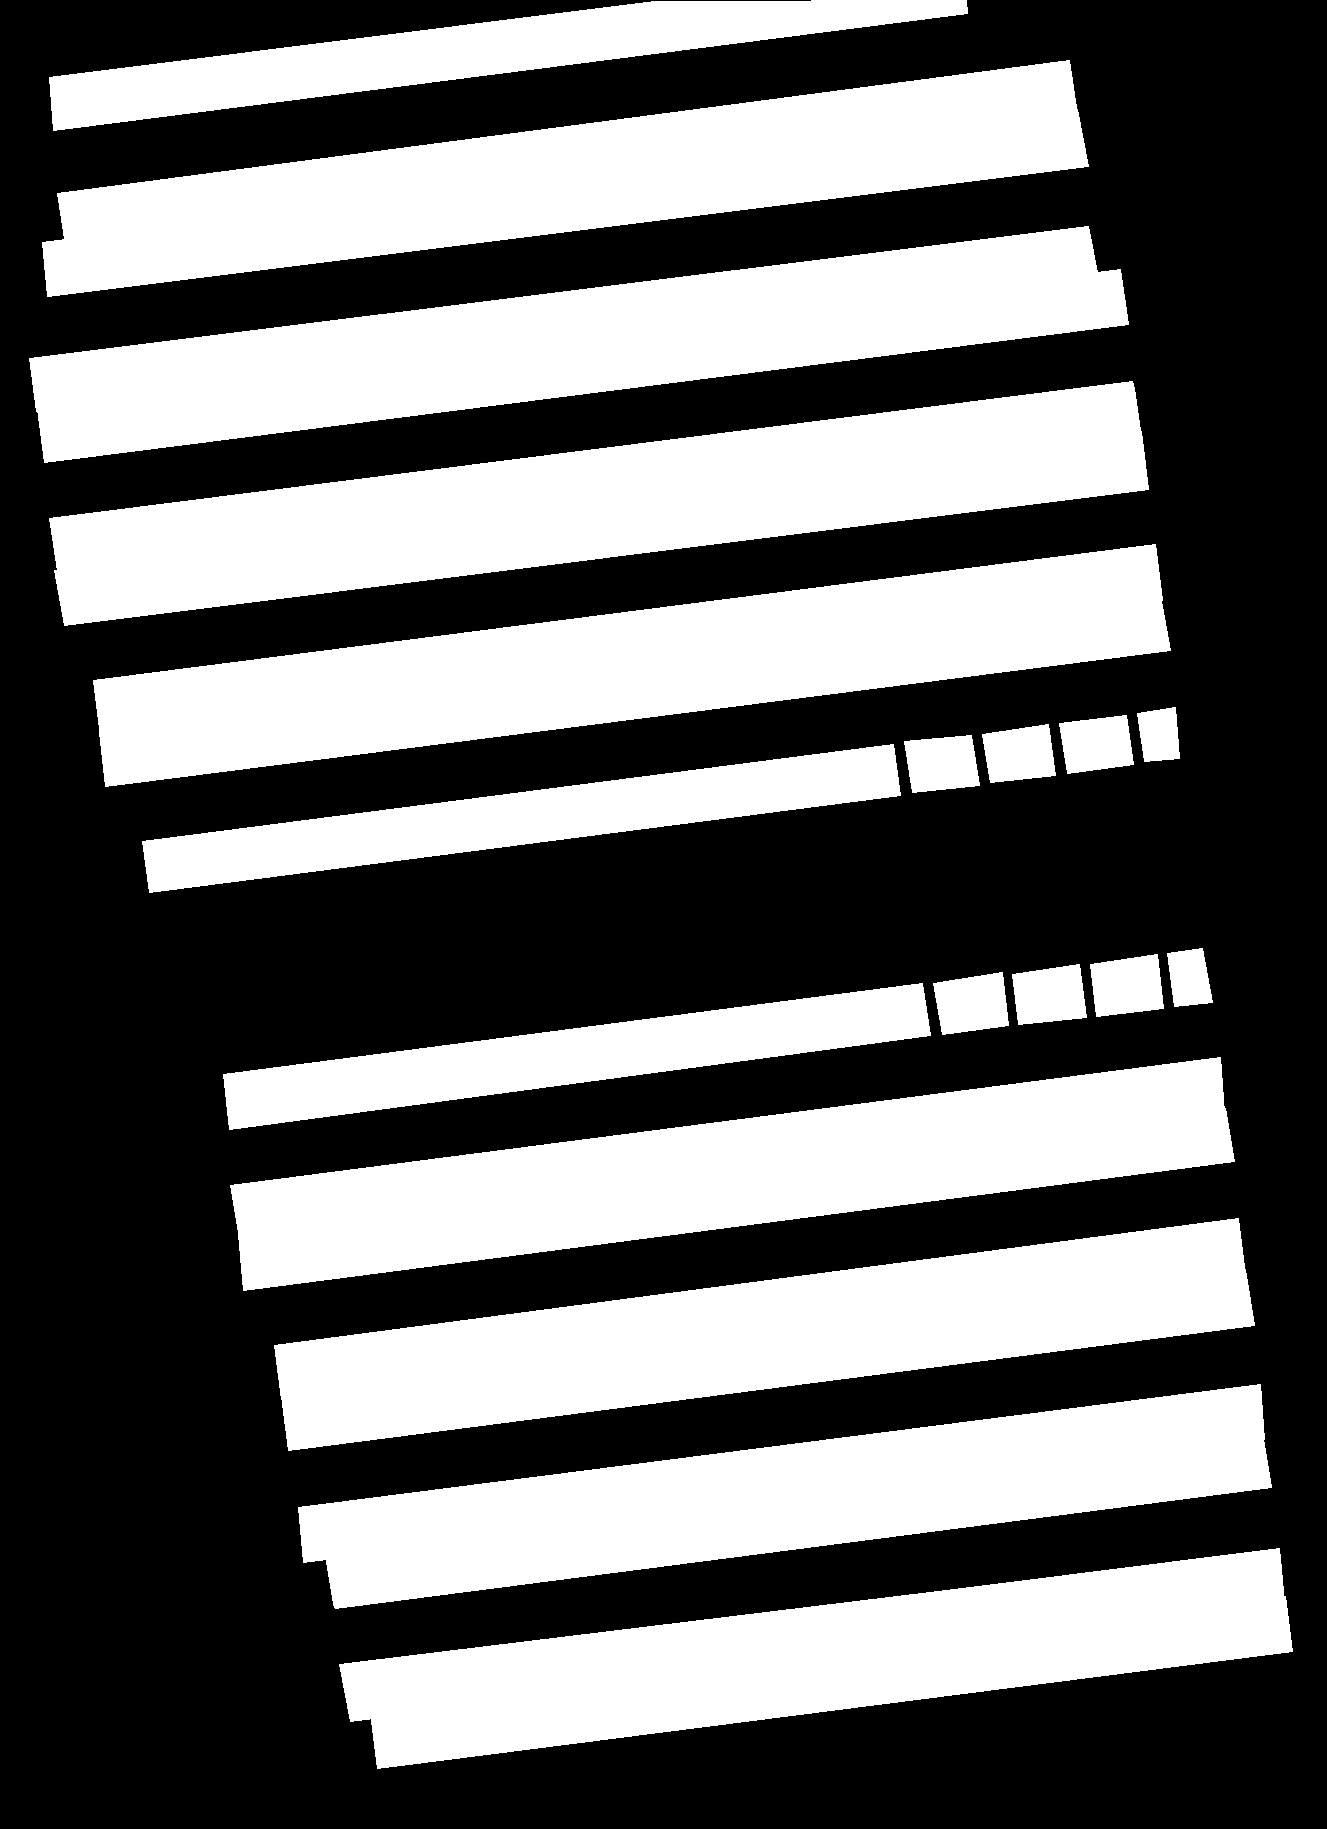parkingspot: (48, 381, 1141, 577), (54, 432, 1148, 625), (37, 268, 1128, 462), (92, 544, 1162, 736), (99, 595, 1169, 787), (28, 226, 1098, 410), (43, 109, 1088, 295), (57, 60, 1077, 246), (239, 1108, 1235, 1289), (230, 1057, 1225, 1238), (281, 1270, 1255, 1450), (274, 1218, 1245, 1399), (298, 1385, 1264, 1562), (325, 1433, 1272, 1607), (340, 1548, 1284, 1721), (369, 1596, 1291, 1768), (48, 0, 968, 131), (142, 744, 899, 892), (223, 983, 931, 1129), (933, 971, 1007, 1034), (1090, 954, 1164, 1015), (1012, 964, 1085, 1024), (982, 724, 1056, 782), (904, 736, 979, 792), (1058, 716, 1132, 772), (1166, 949, 1212, 1005), (1137, 707, 1179, 761)
